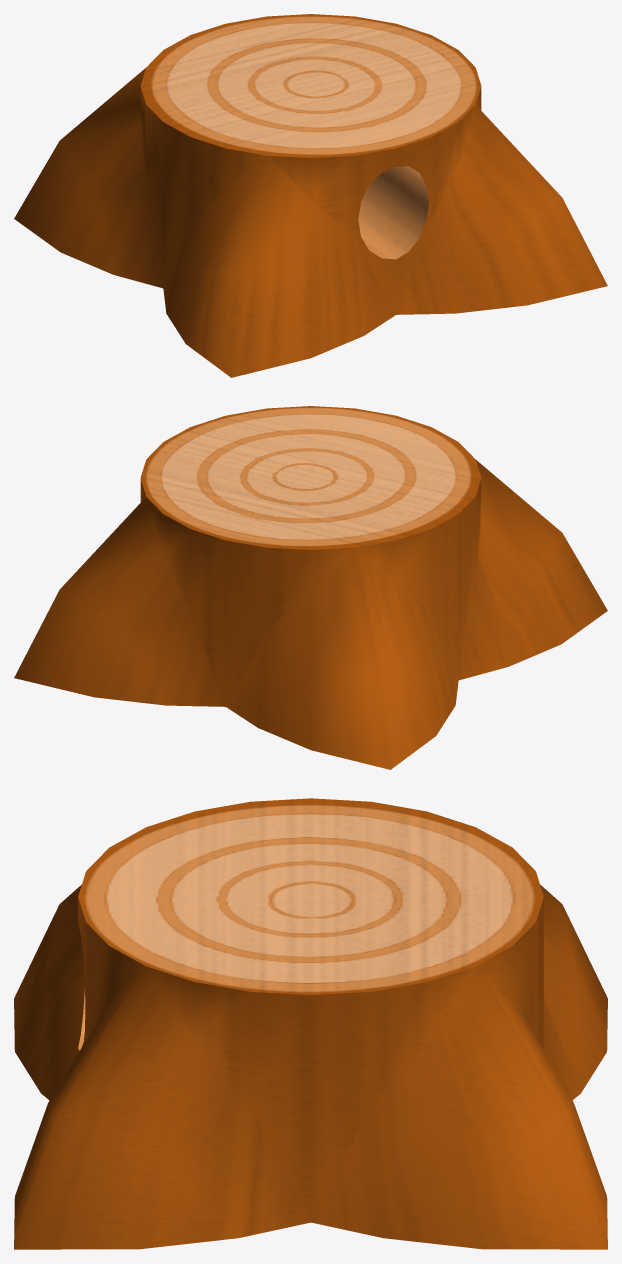
The model's file is nestA_v2.fbx.
3 renders of one model, top to bottom at view 1: azimuth 30°, elevation 25°; view 2: azimuth 150°, elevation 25°; view 3: azimuth 270°, elevation 25°, orthographic. The views are drawn at different scales.
Parts seen in each view (by area): view 1: wood_ne00, wood_ne04, wood_ne01, wood_ne03; view 2: wood_ne00, wood_ne03, wood_ne02, wood_ne04; view 3: wood_ne00, wood_ne02, wood_ne01, wood_ne04, wood_ne03.
Boxes of the visible parts, x1,y1,x2,y2 form: wood_ne00: (140, 14, 481, 314); wood_ne04: (163, 156, 395, 377); wood_ne01: (396, 105, 607, 314); wood_ne03: (14, 68, 163, 288); wood_ne00: (140, 406, 481, 706); wood_ne03: (226, 548, 458, 769); wood_ne02: (14, 497, 225, 706); wood_ne04: (458, 460, 607, 680); wood_ne00: (78, 798, 543, 1221); wood_ne02: (311, 966, 607, 1249); wood_ne01: (14, 966, 310, 1249); wood_ne04: (14, 884, 84, 1100); wood_ne03: (540, 884, 607, 1100).
Bounding box in the file's own units: 4.26 × 1.8 × 4.26.
